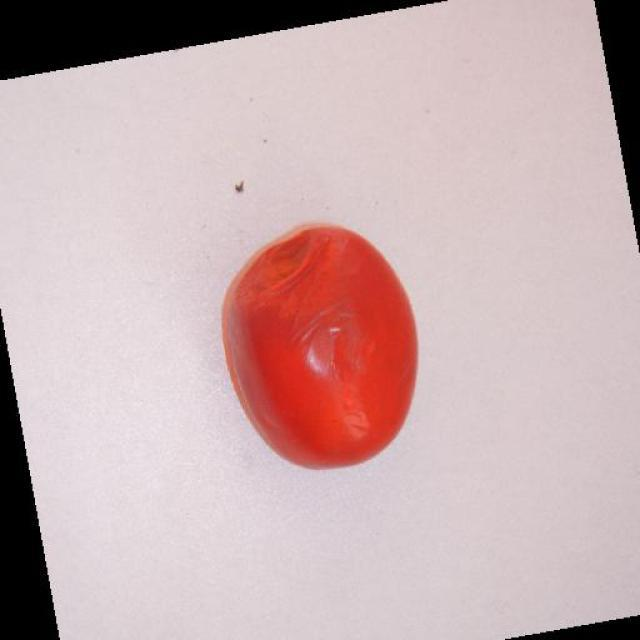Rotten Tomato: (198, 209, 432, 480)
